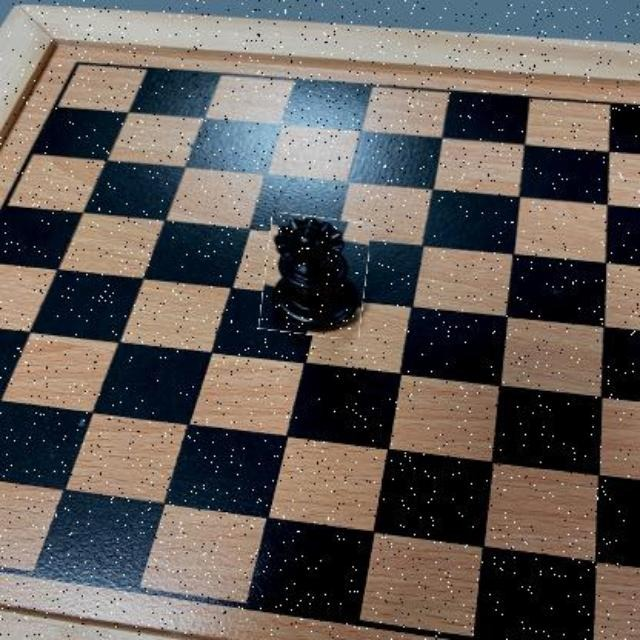black-queen: (262, 214, 368, 337)
